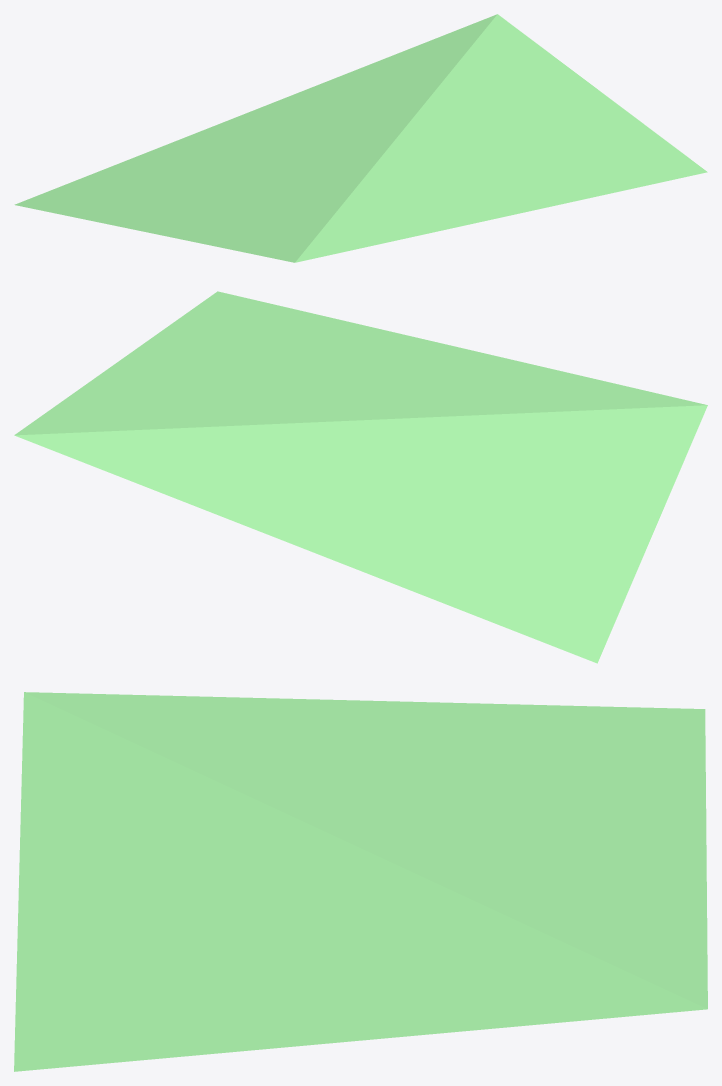
File: linkhou_LR4_R560_link6_respondable_coll_19.dae
3 renders of one model, top to bottom at view 1: azimuth 30°, elevation 25°; view 2: azimuth 150°, elevation 25°; view 3: azimuth 270°, elevation 25°, orthographic. The views are drawn at different scales.
Visible parts, largest first — view 1: Node_00000209DB3AD9B0; view 2: Node_00000209DB3AD9B0; view 3: Node_00000209DB3AD9B0.
Part boxes in pixels (left/top/right/bottom): Node_00000209DB3AD9B0: left=14, top=14, right=707, bottom=262; Node_00000209DB3AD9B0: left=14, top=291, right=707, bottom=663; Node_00000209DB3AD9B0: left=14, top=692, right=707, bottom=1071.
Size of the model in its own units: 0.0258 by 0.00352 by 0.0168.
